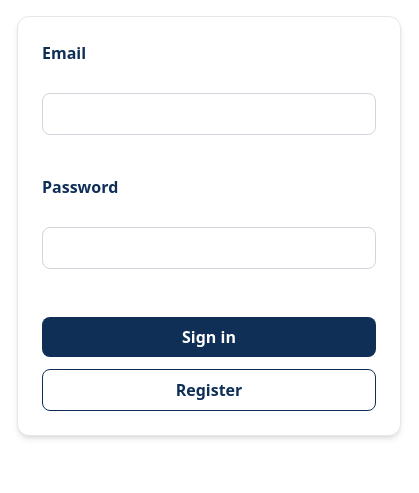
LoginForm › validates email format before submission
Type "invalid-email" into the field labelled "Email".
click(209, 114); type("invalid-email")  # box [42,93,376,135]
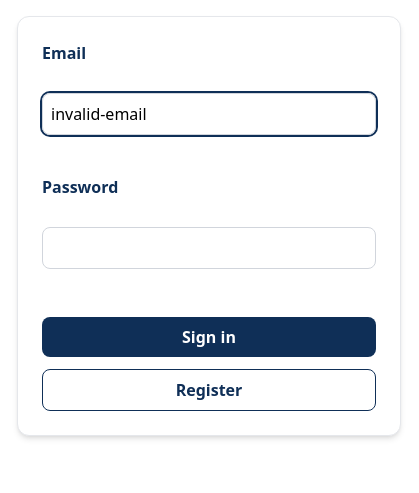
Type "password123" into the password field labelled "Password".
click(209, 248); type("password123")  # box [42,227,376,269]
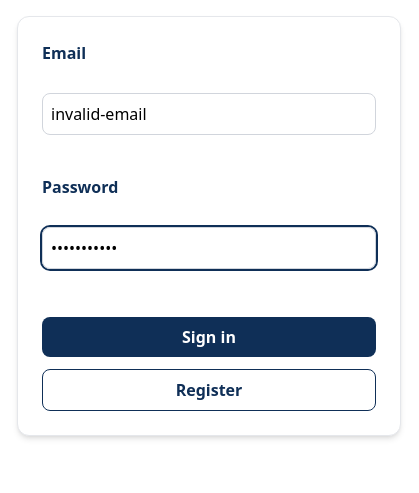
Click the submit button.
click(209, 337)  # box [42,317,376,357]
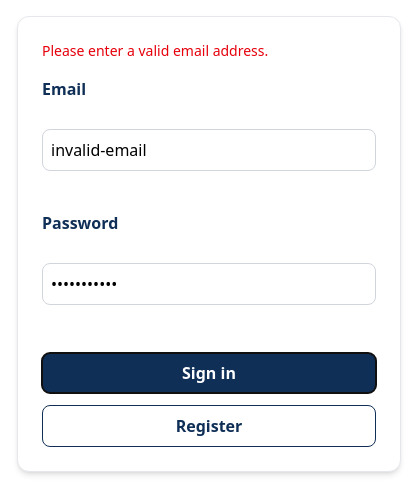
Now the text "Please enter a valid email address." is shown, box [42,41,268,60]
